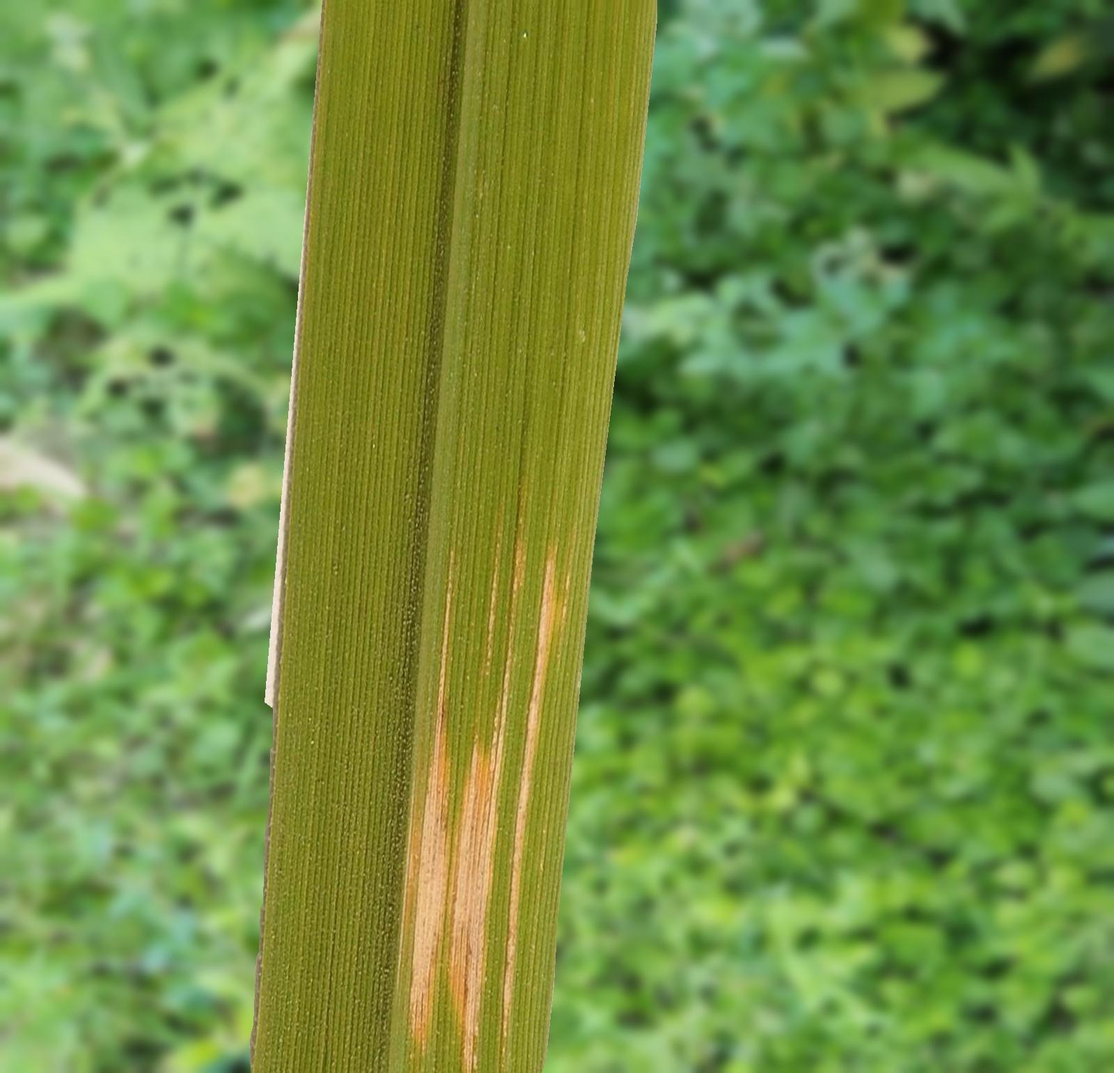BLS: (441, 528, 530, 1072), (503, 547, 558, 1044), (403, 577, 453, 1049), (485, 524, 503, 677)
LEAF: (249, 0, 657, 1072)
